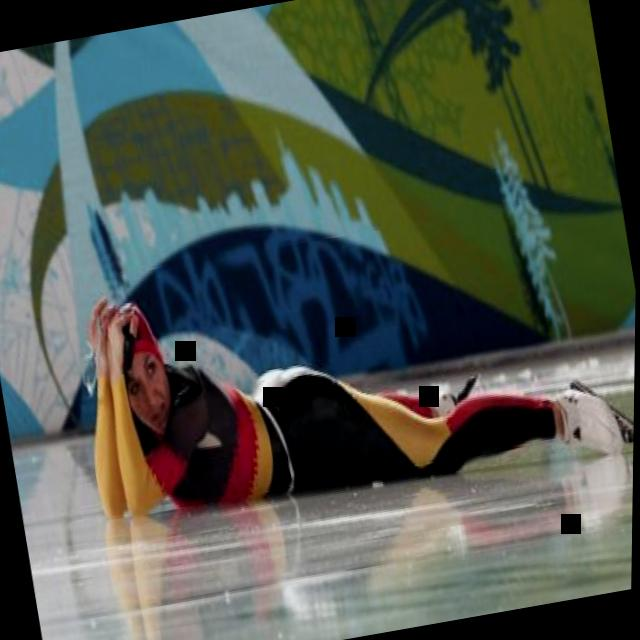Fall-Detected: (45, 149, 638, 549)
